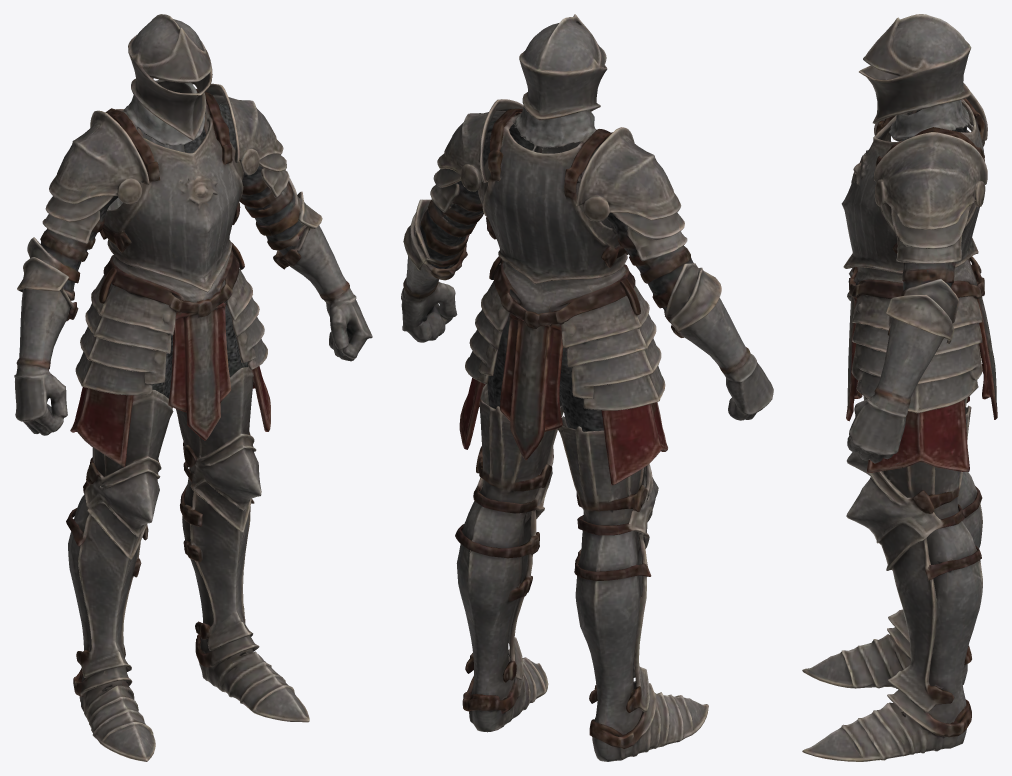
The model's file is warden-source-1024.glb.
The picture shows the model from 3 angles, left to right: view 1: azimuth 30°, elevation 25°; view 2: azimuth 150°, elevation 25°; view 3: azimuth 270°, elevation 25°; orthographic projection. The views are drawn at different scales.
Visible parts, largest first — view 1: world; view 2: world; view 3: world.
Boxes of the visible parts, x1,y1,x2,y2 form: world: (14,14,372,761); world: (401,14,773,761); world: (802,14,997,761).
Bounding box in the file's own units: 0.5315 × 1 × 0.2531.
Materials: 1 (1 with a texture image).
